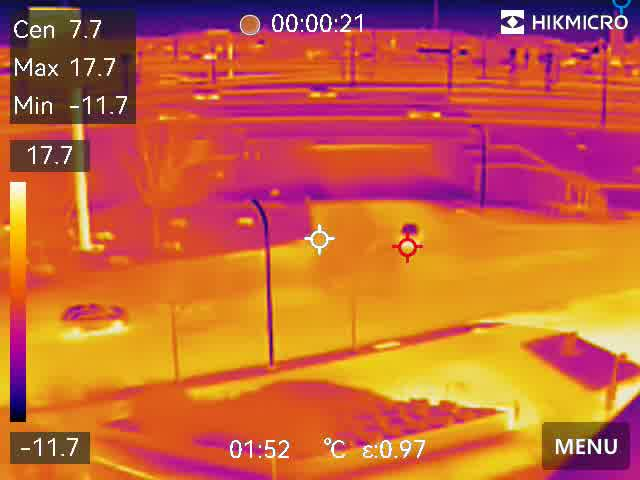vehicle: (57, 301, 134, 335), (394, 218, 423, 257), (404, 105, 445, 122), (189, 85, 223, 104), (301, 82, 336, 100)
